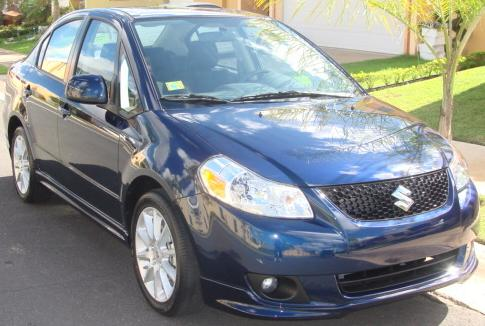front_view: (200, 136, 483, 303)
headlight: (196, 152, 320, 225)
side_glass: (44, 16, 133, 112)
